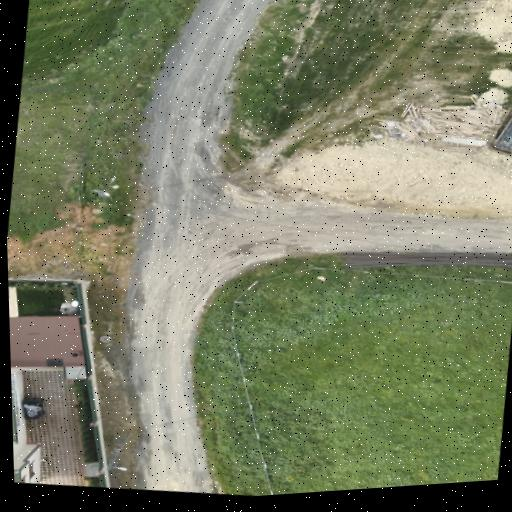car: (22, 397, 43, 420)
